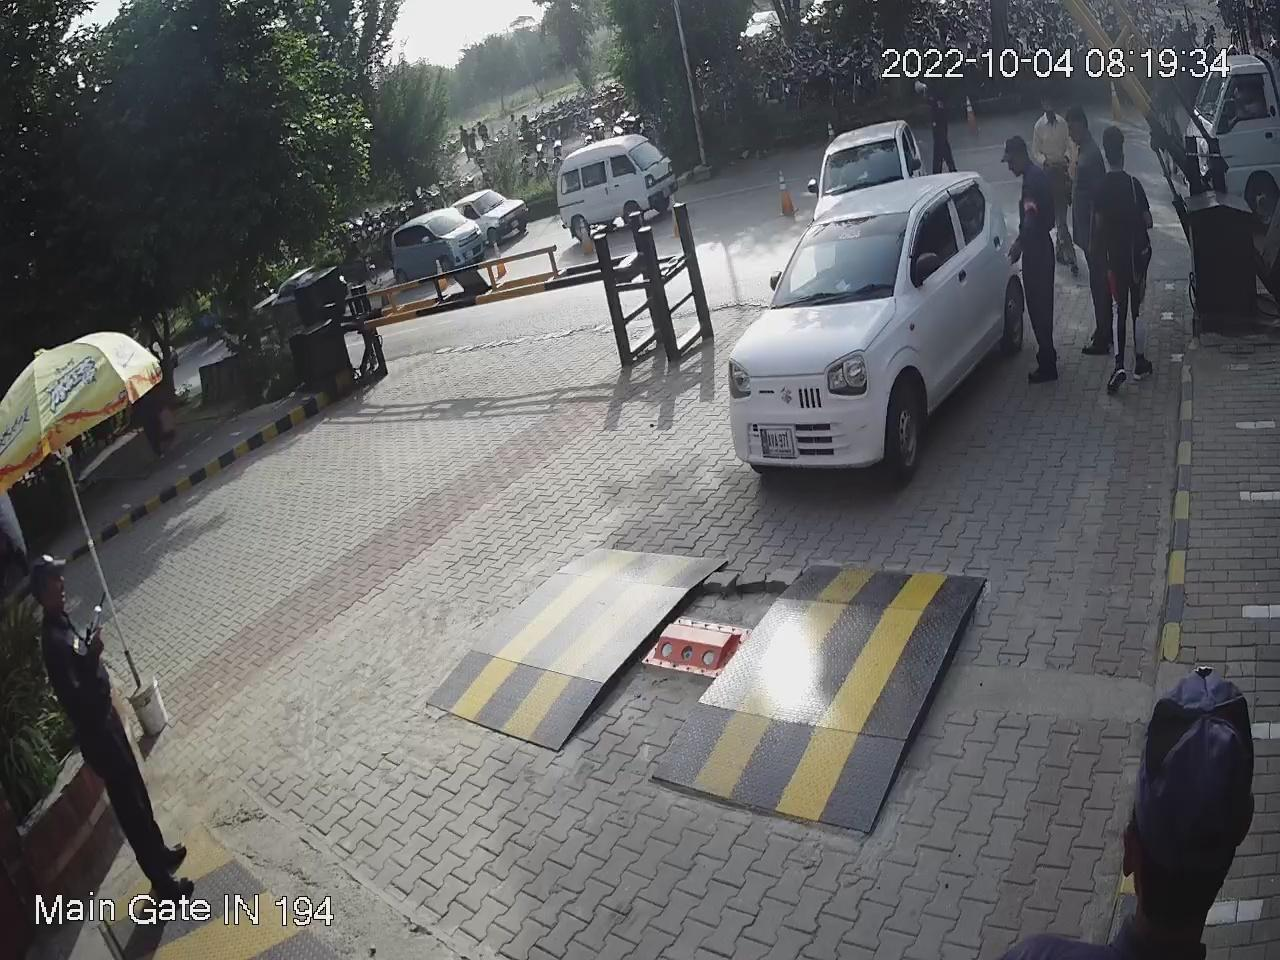windshield: (770, 200, 921, 308)
